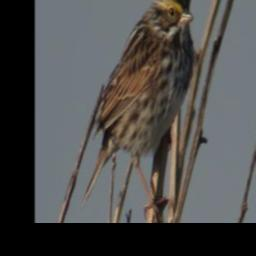Sparrow: (79, 0, 196, 219)
